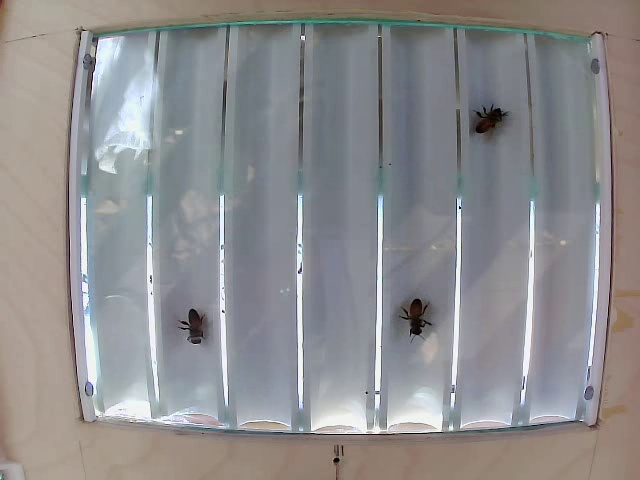bee: (174, 308, 222, 357), (474, 101, 510, 151), (391, 288, 427, 333)
